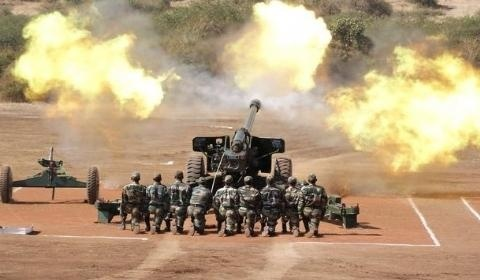fire: (325, 40, 480, 174), (13, 7, 166, 117), (217, 0, 332, 92)
